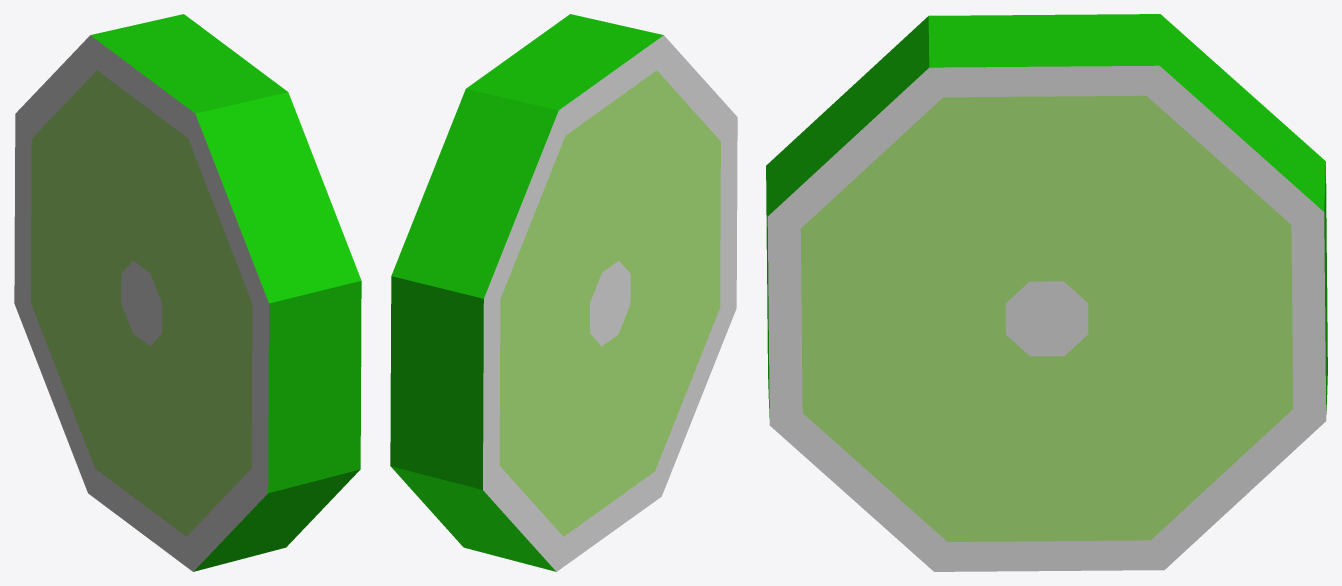
Rendered from lime03.obj.
3 renders of one model, left to right at view 1: azimuth 30°, elevation 25°; view 2: azimuth 150°, elevation 25°; view 3: azimuth 270°, elevation 25°, orthographic. The views are drawn at different scales.
Visible parts, largest first — view 1: Cylinder.001; view 2: Cylinder.001; view 3: Cylinder.001.
Part boxes in pixels (bbox=[...]): Cylinder.001: bbox=[14, 14, 361, 571]; Cylinder.001: bbox=[390, 14, 737, 571]; Cylinder.001: bbox=[766, 14, 1327, 571].
Size of the model in its own units: 0.00753 by 0.0356 by 0.0356.
1 material, 1 textured.
